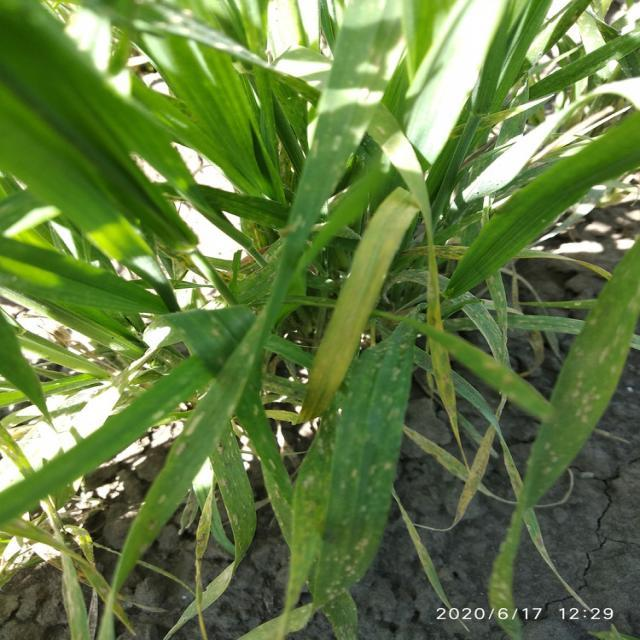wheat-powdery-mildew: (560, 360, 606, 442), (318, 533, 366, 607)
